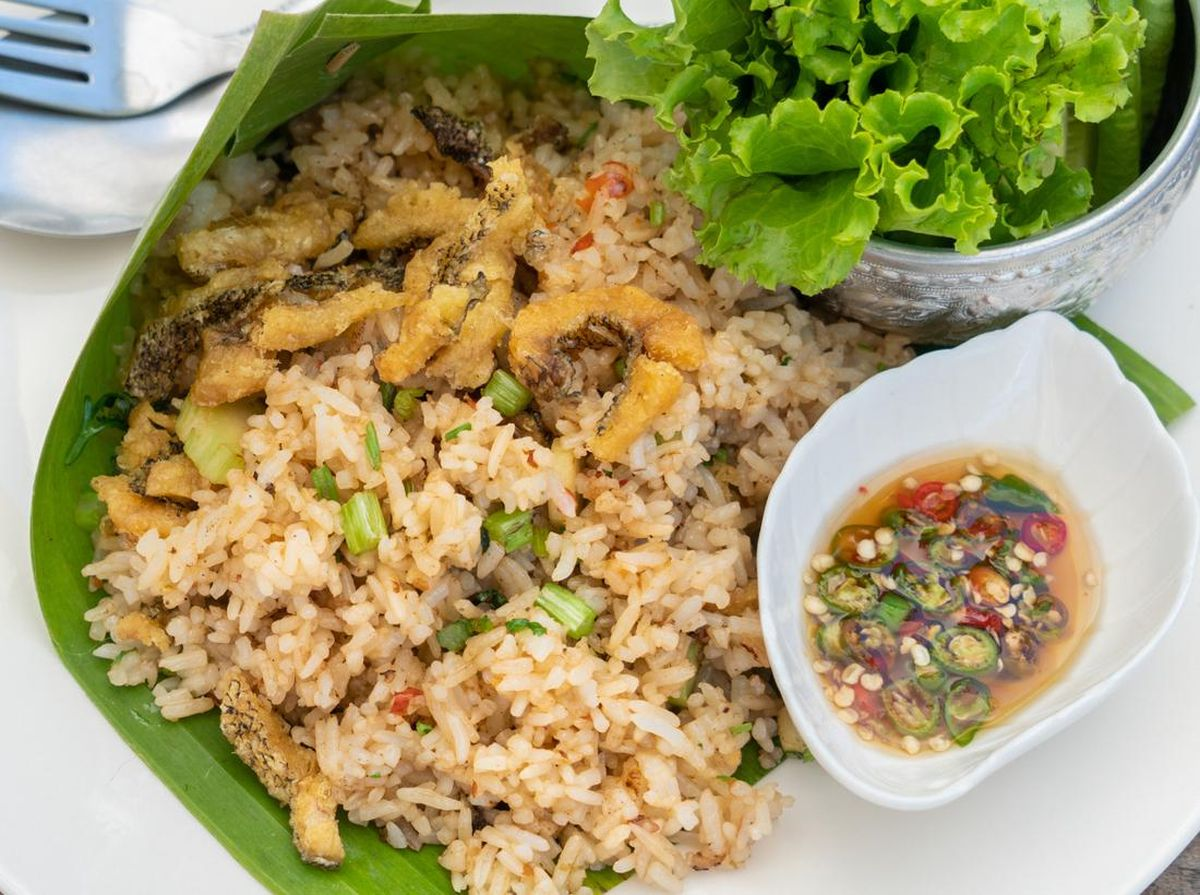Nasi goreng: (79, 141, 801, 893)
